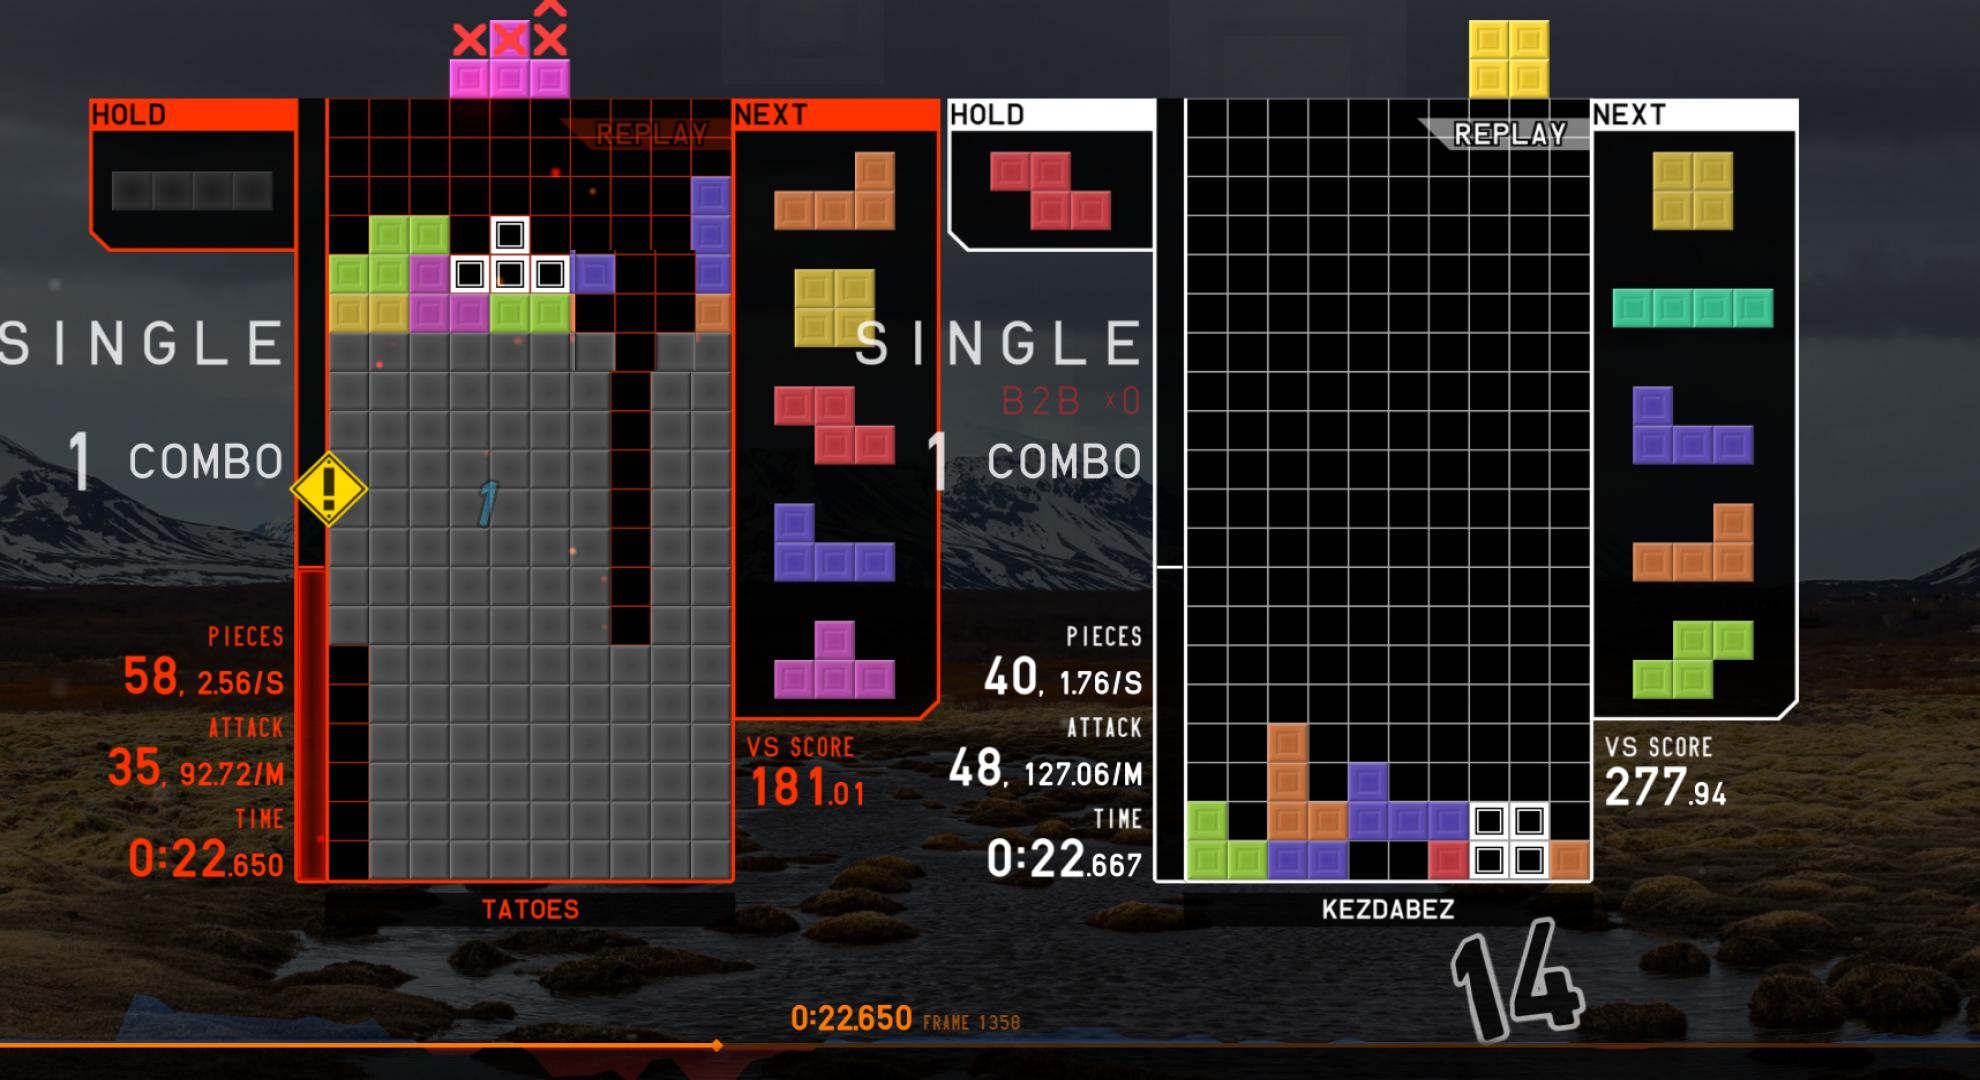tspin: (569, 250, 697, 371)
